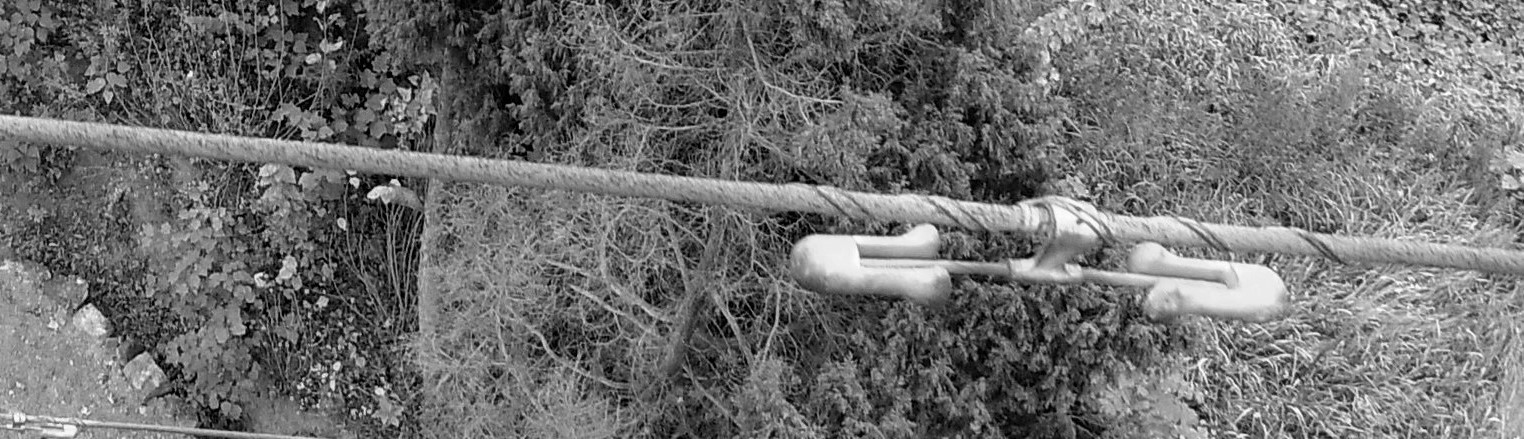Shockproof hammer: (769, 179, 1299, 334)
